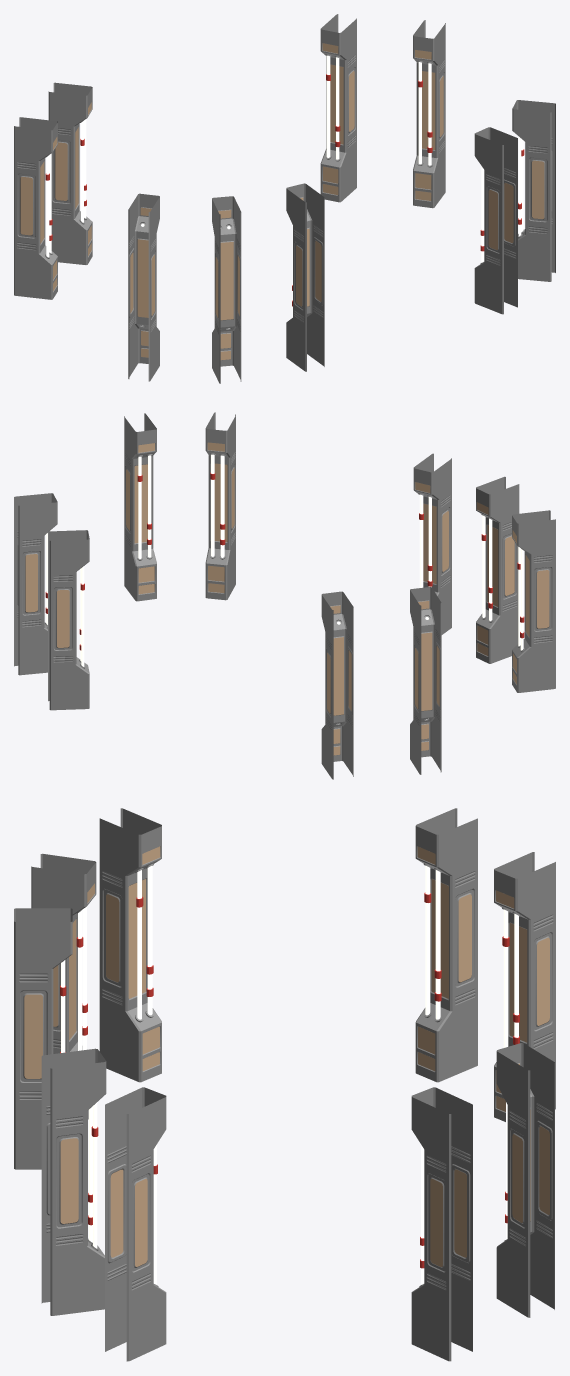
File: Room_ControlRoom_Pillars.fbx
3 renders of one model, top to bottom at view 1: azimuth 30°, elevation 25°; view 2: azimuth 150°, elevation 25°; view 3: azimuth 270°, elevation 25°, orthographic. The views are drawn at different scales.
Parts seen in each view (by area): view 1: pillars; view 2: pillars; view 3: pillars.
Part boxes in pixels (left/top/right/bottom): pillars: left=14, top=14, right=555, bottom=383; pillars: left=14, top=412, right=555, bottom=779; pillars: left=14, top=808, right=555, bottom=1361.
Size of the model in its own units: 996 by 376 by 747.
